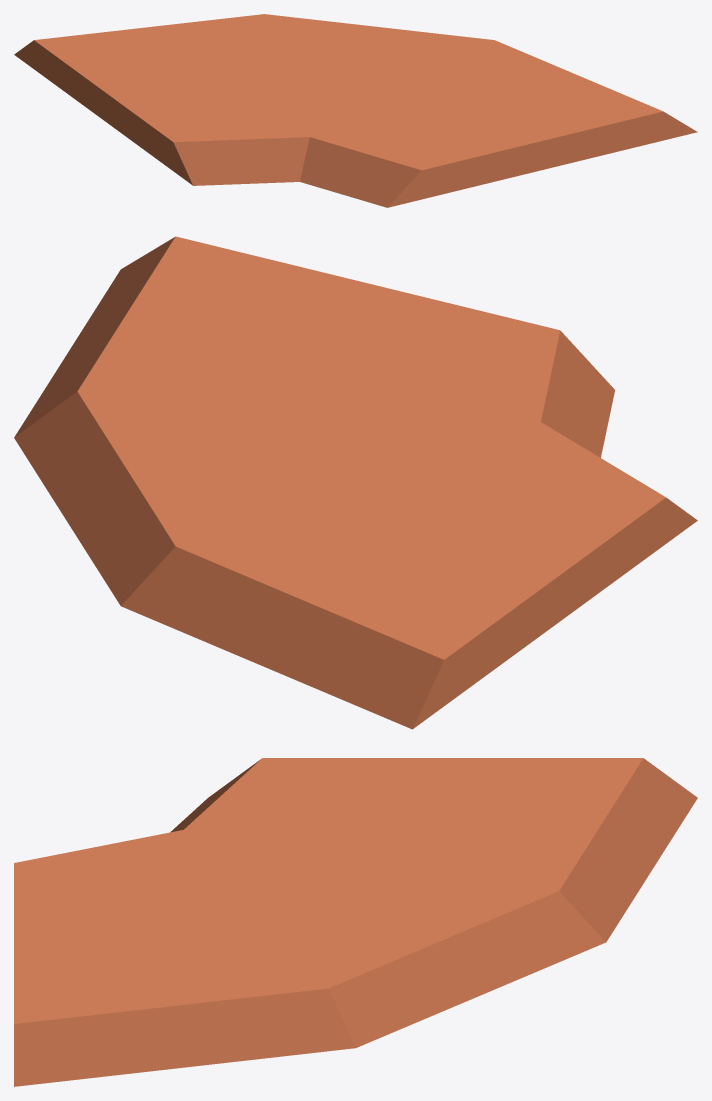
File: crops_dirtRowCorner.glb
The picture shows the model from 3 angles, top to bottom: view 1: azimuth 30°, elevation 25°; view 2: azimuth 150°, elevation 25°; view 3: azimuth 270°, elevation 25°; orthographic projection. The views are drawn at different scales.
Visible parts, largest first — view 1: crops_dirtRowCorner; view 2: crops_dirtRowCorner; view 3: crops_dirtRowCorner.
Boxes of the visible parts, x1,y1,x2,y2 form: crops_dirtRowCorner: [14, 14, 697, 207]; crops_dirtRowCorner: [14, 236, 697, 729]; crops_dirtRowCorner: [14, 758, 697, 1086].
Size of the model in its own units: 0.779 by 0.05 by 0.779.
